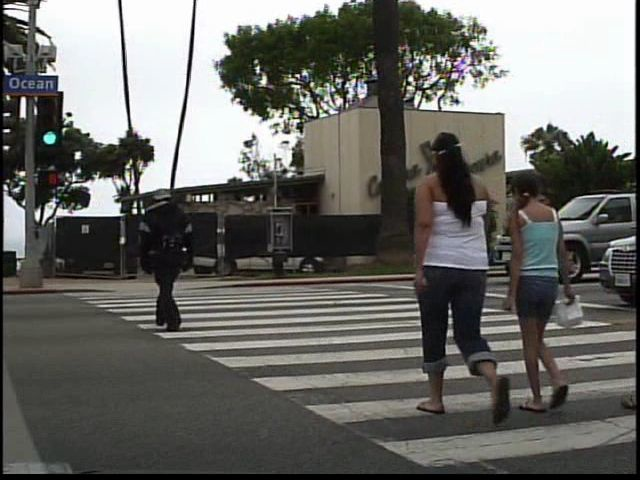person: (406, 125, 518, 430), (520, 164, 592, 428), (133, 174, 199, 339)
